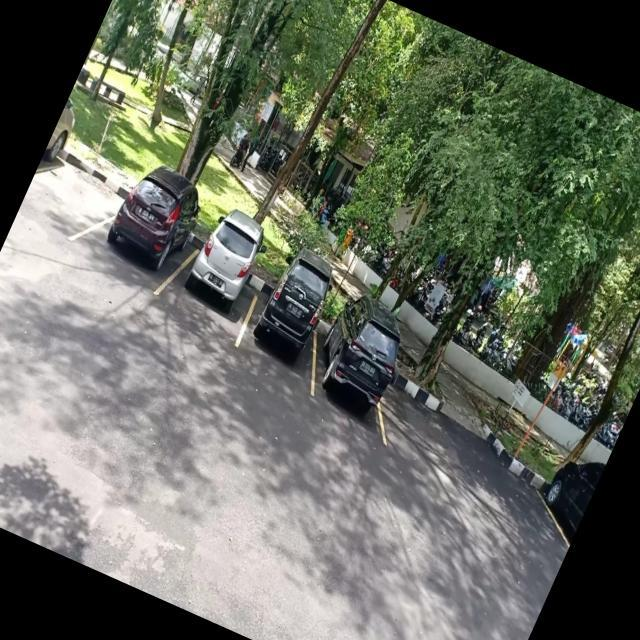empty: (14, 135, 131, 256)
occupied: (86, 169, 211, 300), (297, 306, 416, 428), (167, 226, 275, 335), (236, 265, 341, 374)
